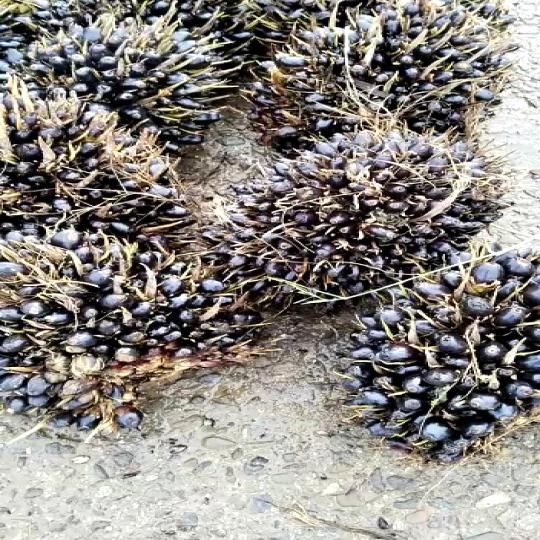mentah: (0, 214, 313, 440), (0, 0, 262, 210), (228, 126, 485, 309), (326, 241, 540, 460)
